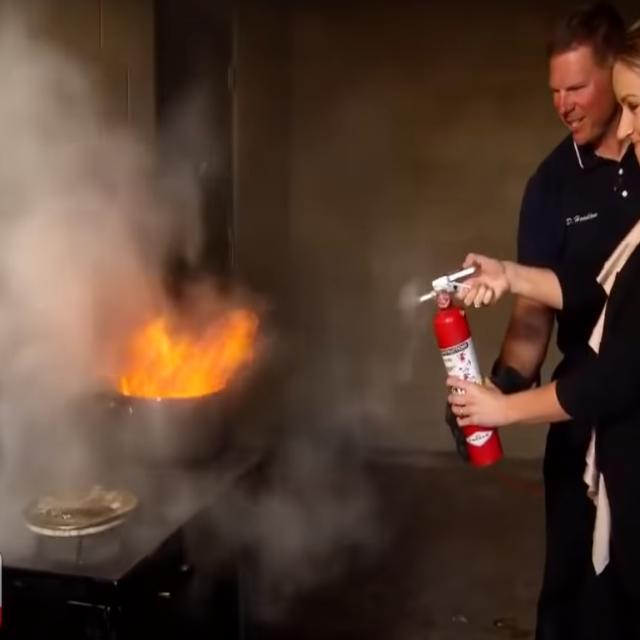Fire: (109, 294, 259, 402)
Smoke: (0, 0, 106, 553), (108, 92, 215, 290)
